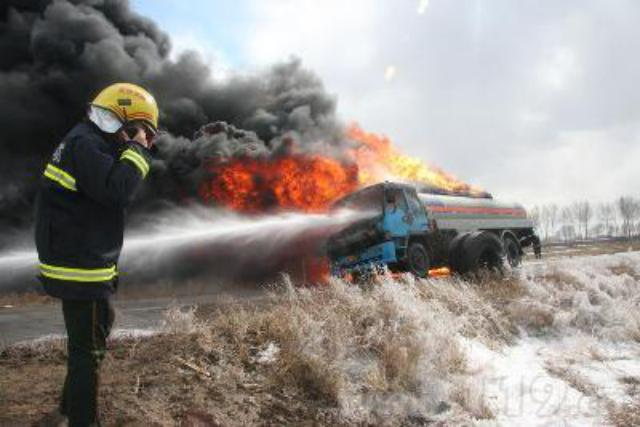fire: (274, 158, 342, 209), (216, 164, 254, 204), (384, 151, 420, 178), (417, 166, 457, 188)
